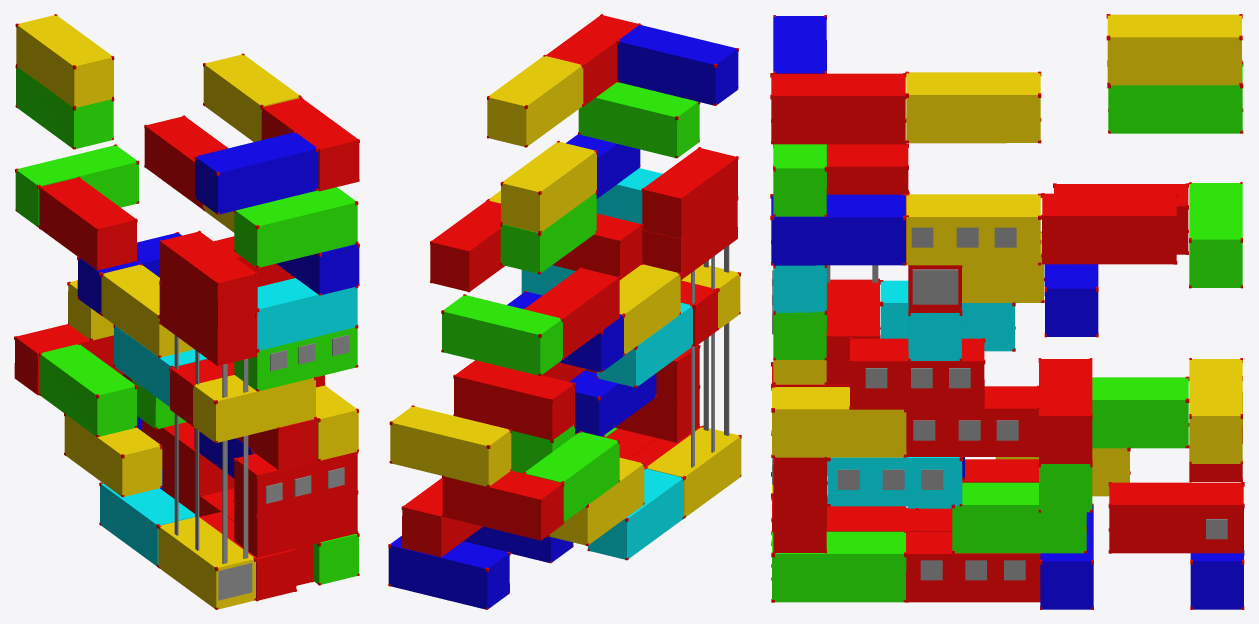
The model's file is ParentPart18FBX.FBX.
3 renders of one model, left to right at view 1: azimuth 30°, elevation 25°; view 2: azimuth 150°, elevation 25°; view 3: azimuth 270°, elevation 25°, orthographic. The views are drawn at different scales.
Visible parts, largest first — view 1: ParentPart18; view 2: ParentPart18; view 3: ParentPart18.
Boxes of the visible parts, x1=… form: ParentPart18: x1=14, y1=14, x2=359, y2=609; ParentPart18: x1=388, y1=14, x2=741, y2=609; ParentPart18: x1=770, y1=14, x2=1244, y2=609.
Size of the model in its own units: 3.21 by 7.23 by 8.57.
